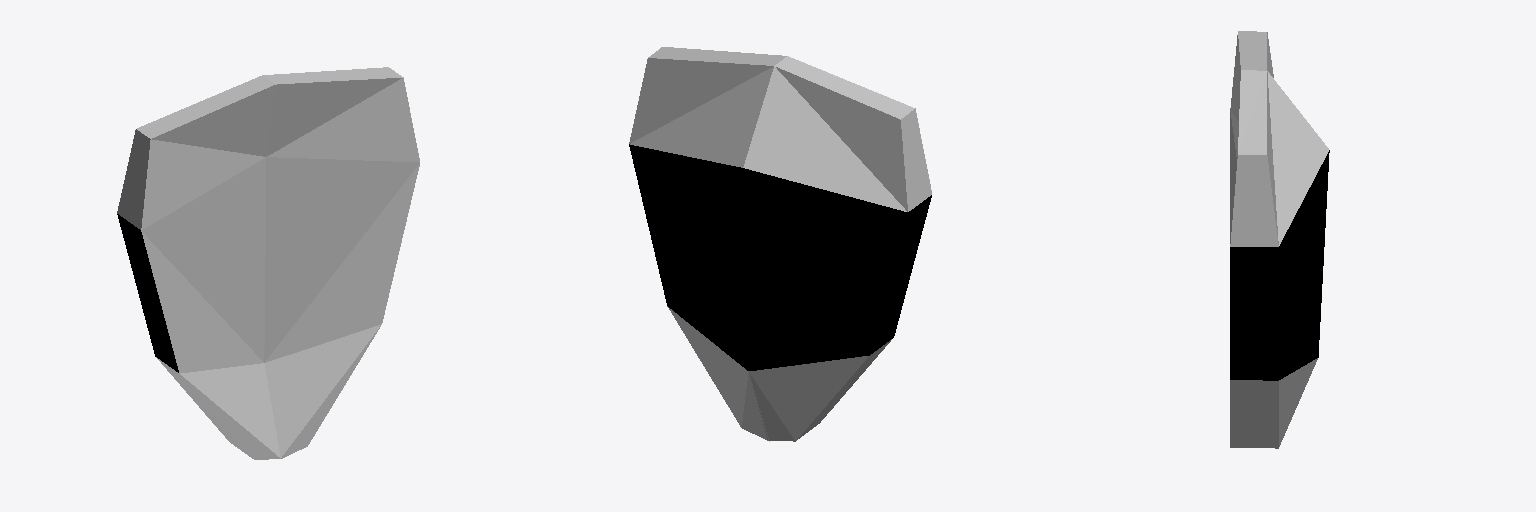
File: shield.obj
3 renders of one model, left to right at view 1: azimuth 30°, elevation 25°; view 2: azimuth 150°, elevation 25°; view 3: azimuth 270°, elevation 25°, orthographic.
Parts seen in each view (by area): view 1: Cube_Cube.001; view 2: Cube_Cube.001; view 3: Cube_Cube.001.
Boxes of the visible parts, x1=… form: Cube_Cube.001: x1=117, y1=67, x2=419, y2=459; Cube_Cube.001: x1=629, y1=47, x2=931, y2=441; Cube_Cube.001: x1=1230, y1=31, x2=1329, y2=448.
Size of the model in its own units: 0.3815 by 0.4851 by 0.1176.